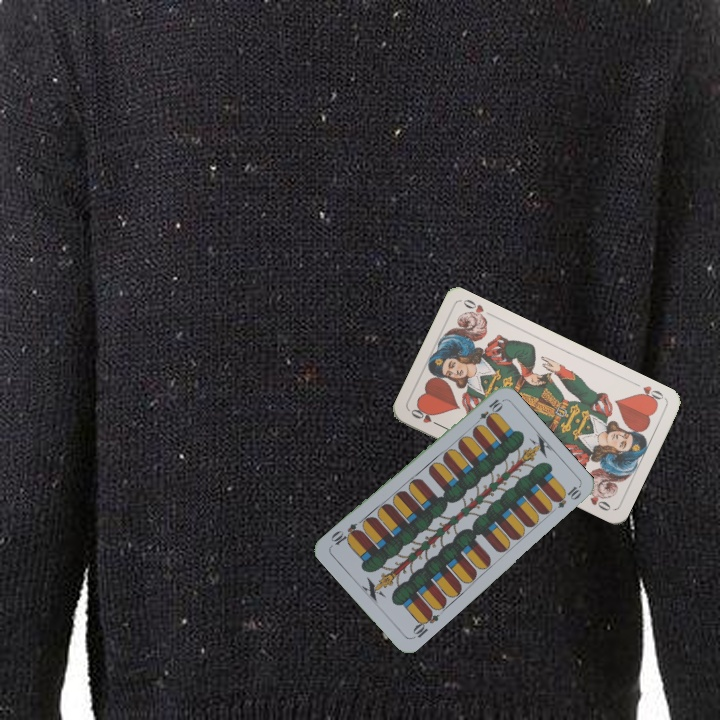E10: (470, 395, 505, 429), (408, 606, 442, 641)
HO: (407, 404, 444, 429), (633, 381, 666, 407)
